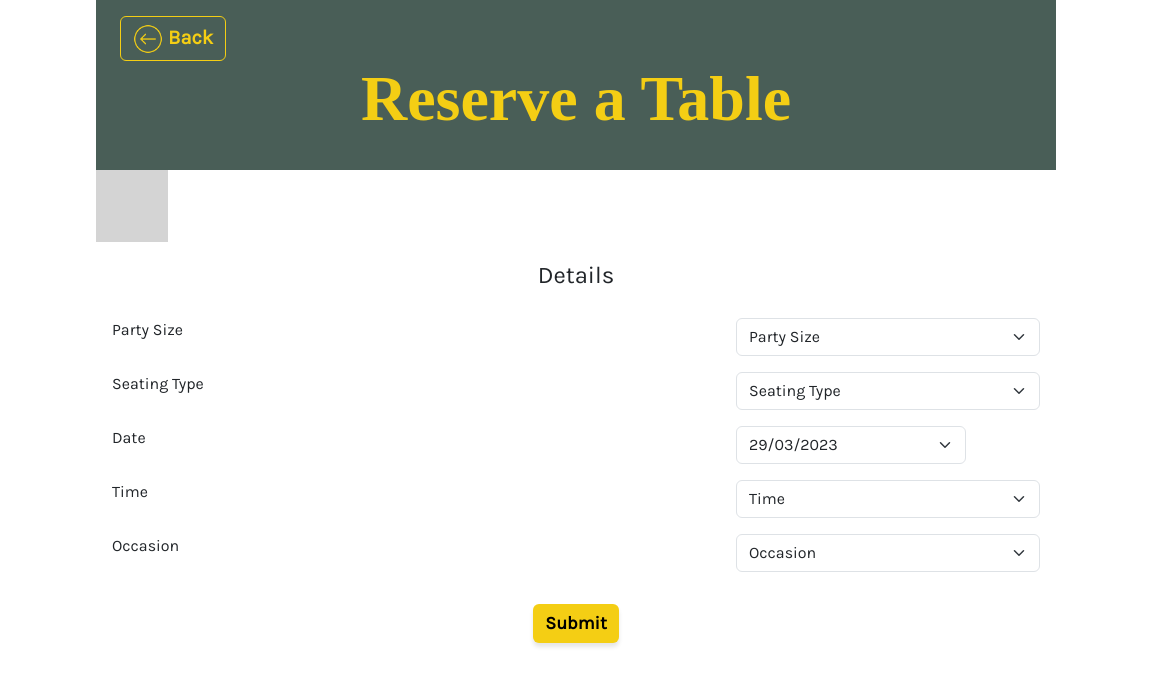
Test: test if validation works as expected in DetailsForm component › validateForm detects invalid time
This screenshot has width=1152, height=700.
Note: Simulate an invalid input for the time field
Step 1. Select "" in the dropdown labelled "Time" → [888, 499], box x1=736 y1=480 x2=1040 y2=518
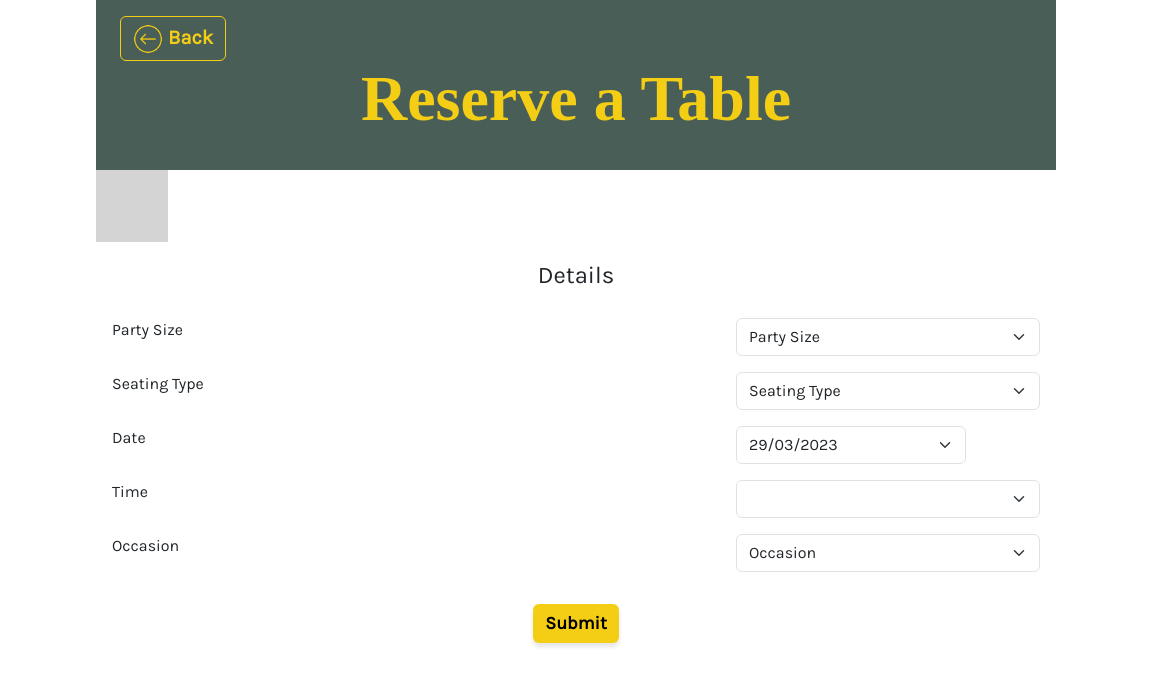
Note: Submit the form and verify that an error message is displayed
Step 2. Submit the form from the button "Submit", box x1=533 y1=604 x2=619 y2=643
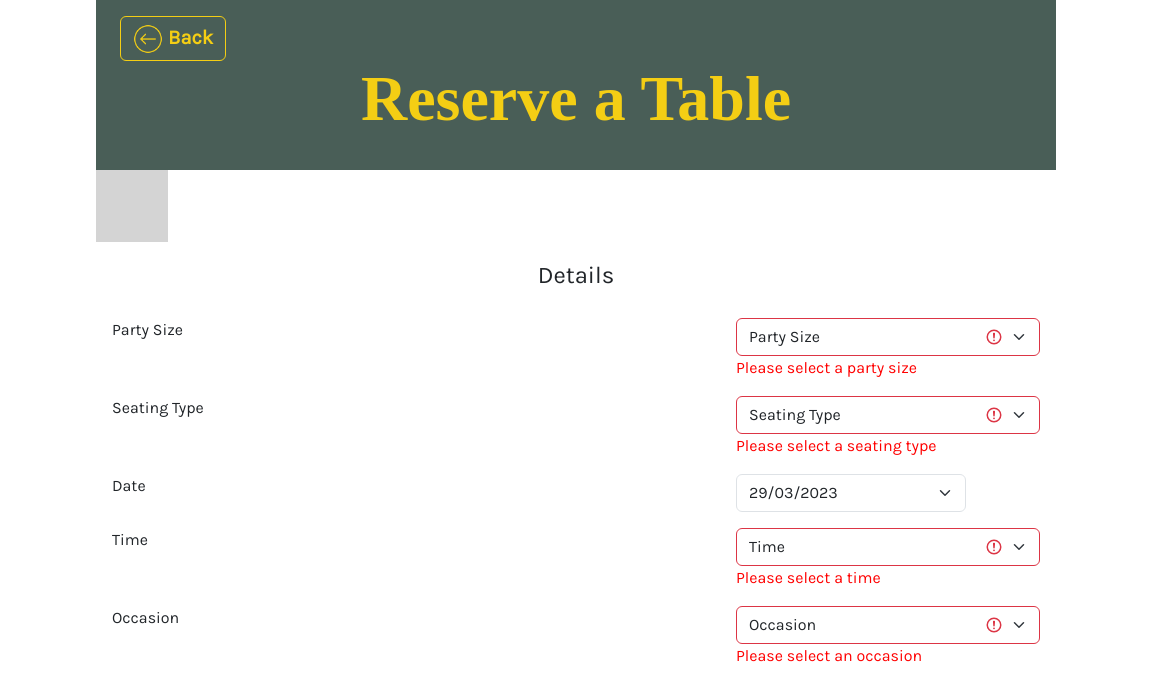
Now the text "Please select a time" is shown, box x1=736 y1=568 x2=881 y2=587
